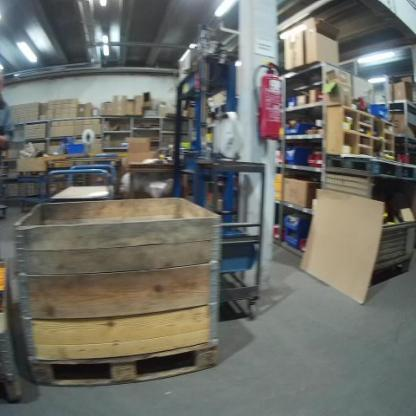pallet: (29, 339, 220, 388)
stillage: (320, 166, 416, 289)
